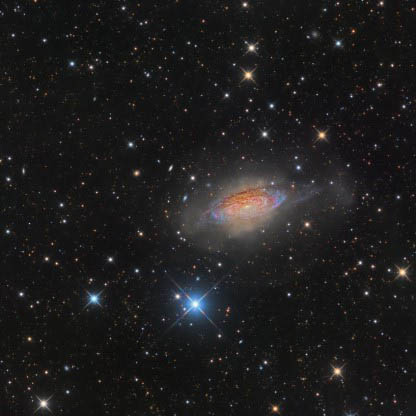NGC 3521: (125, 127, 348, 266)
